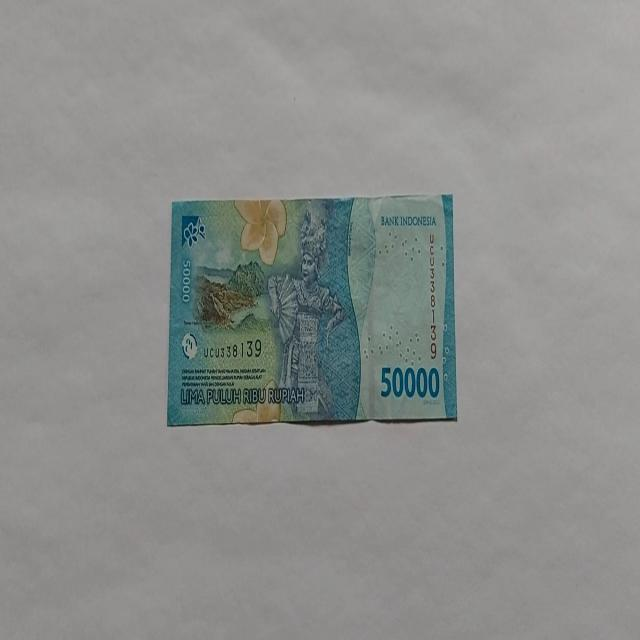lima puluh ribu rupiah: (166, 193, 458, 427)
